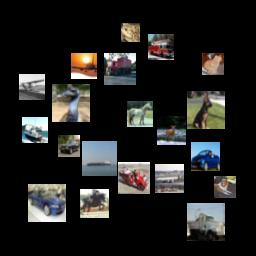airplane: (155, 164, 184, 193), (71, 53, 97, 79), (19, 74, 45, 100)
automobile: (28, 184, 66, 222), (191, 142, 220, 171), (58, 135, 80, 157)
bird: (52, 84, 90, 122)
cat: (202, 53, 224, 75)
deer: (157, 116, 186, 145)
dog: (187, 91, 225, 129), (214, 176, 236, 198)
frog: (121, 23, 140, 42)
ship: (82, 141, 117, 176), (22, 117, 48, 143)
truck: (187, 203, 225, 241), (104, 53, 136, 85), (118, 162, 150, 194), (148, 34, 174, 60)
